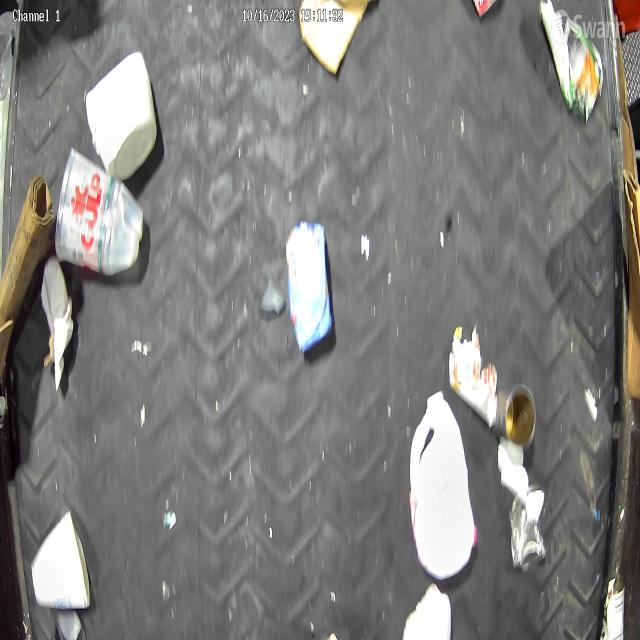can: (490, 381, 538, 450), (599, 575, 627, 640)
milk_jug: (408, 389, 478, 584)
non_white_jug: (286, 218, 333, 356)
